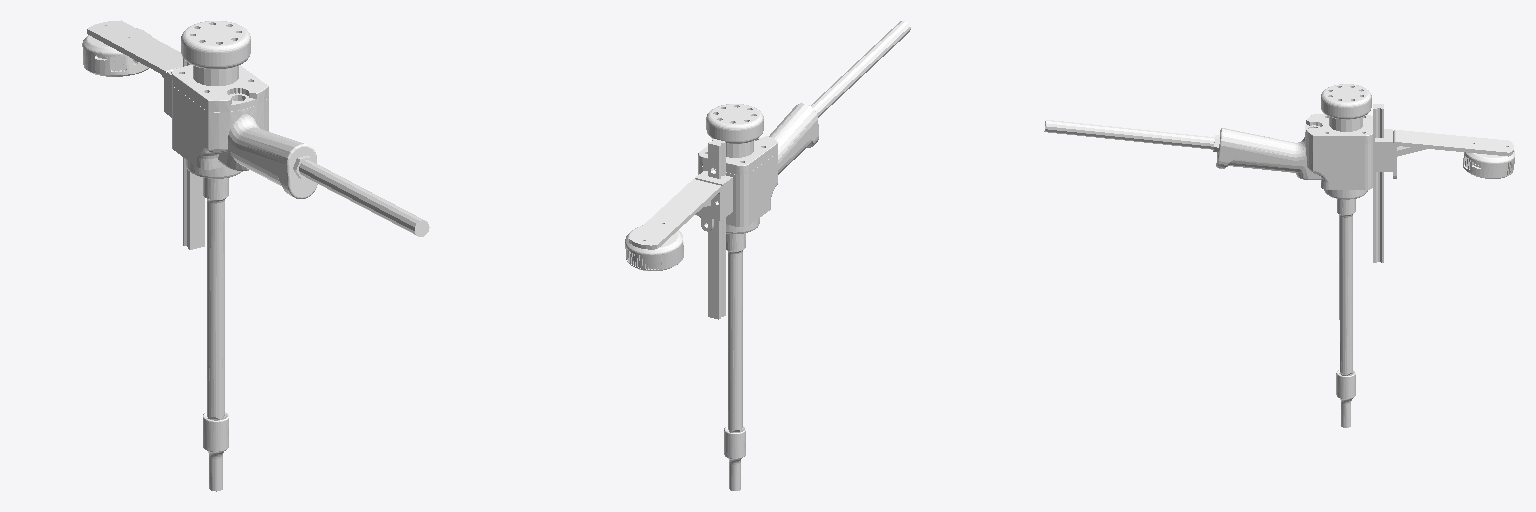
robot.urdf — socket_describe:
<?xml version="1.0" encoding="utf-8"?>
<!-- This URDF was automatically created by SolidWorks to URDF Exporter! Originally created by [author] ([email redacted]) 
     Commit Version: 1.5.1-0-g916b5db  Build Version: 1.5.7152.31018
     For more information, please see http://wiki.ros.org/sw_urdf_exporter -->
<robot name="socket_describe">
  <link name="pneumatic_base_link">
    <inertial>
      <origin xyz="2.3901E-06 -0.031661 -0.082455" rpy="0 0 0" />
      <mass value="0.63254" />
      <inertia ixx="0.0016249" ixy="-2.4777E-08" ixz="-8.1418E-08" iyy="0.00061245" iyz="4.3555E-05" izz="0.0012505" />
    </inertial>
    <visual>
      <origin xyz="0 0 0" rpy="0 0 0" />
      <geometry>
        <mesh filename="package://socket_describe/meshes/pneumatic_base_link.STL" />
      </geometry>
      <material name="">
        <color rgba="1 1 1 1" />
      </material>
    </visual>
    <collision>
      <origin xyz="0 0 0" rpy="0 0 0" />
      <geometry>
        <mesh filename="package://socket_describe/meshes/pneumatic_base_link.STL" />
      </geometry>
    </collision>
  </link>
  <link name="sleeve_Link">
    <inertial>
      <origin xyz="-6.2102E-10 2.2153E-09 -0.27064" rpy="0 0 0" />
      <mass value="0.059247" />
      <inertia ixx="0.00026061" ixy="-2.3096E-13" ixz="-1.6484E-12" iyy="0.00026061" iyz="1.0567E-11" izz="2.6182E-06" />
    </inertial>
    <visual>
      <origin xyz="0 0 0" rpy="0 0 0" />
      <geometry>
        <mesh filename="package://socket_describe/meshes/sleeve_Link.STL" />
      </geometry>
      <material name="">
        <color rgba="1 1 1 1" />
      </material>
    </visual>
    <collision>
      <origin xyz="0 0 0" rpy="0 0 0" />
      <geometry>
        <mesh filename="package://socket_describe/meshes/sleeve_Link.STL" />
      </geometry>
    </collision>
  </link>
  <joint name="sleeve_joint" type="continuous">
    <origin xyz="0 0 0" rpy="0 0 0" />
    <parent link="pneumatic_base_link" />
    <child link="sleeve_Link" />
    <axis xyz="0 0 -1" />
  </joint>
  <link name="camera_Link">
    <inertial>
      <origin xyz="-0.0040157 2.614E-05 -0.075782" rpy="0 0 0" />
      <mass value="0.12805" />
      <inertia ixx="0.00010423" ixy="-4.9755E-10" ixz="6.6151E-07" iyy="9.2528E-05" iyz="-4.8206E-08" izz="3.1847E-05" />
    </inertial>
    <visual>
      <origin xyz="0 0 0" rpy="0 0 0" />
      <geometry>
        <mesh filename="package://socket_describe/meshes/camera_Link.STL" />
      </geometry>
      <material name="">
        <color rgba="1 1 1 1" />
      </material>
    </visual>
    <collision>
      <origin xyz="0 0 0" rpy="0 0 0" />
      <geometry>
        <mesh filename="package://socket_describe/meshes/camera_Link.STL" />
      </geometry>
    </collision>
  </link>
  <joint name="camera_joint" type="prismatic">
    <origin xyz="0 0.055 -0.07478" rpy="1.5708 -1.5708 0" />
    <parent link="pneumatic_base_link" />
    <child link="camera_Link" />
    <axis xyz="1 0 0" />
    <limit lower="0" upper="0" effort="0" velocity="0" />
  </joint>
</robot>

--- Render facts (derived) ---
3 views of the same robot in one strip: view 1: azimuth 30°, elevation 25°; view 2: azimuth 150°, elevation 25°; view 3: azimuth 270°, elevation 25° (orthographic).
Robot: socket_describe — 3 links, 2 joints (1 continuous, 1 prismatic); root link pneumatic_base_link; default pose: all joints at 0.
Visible links, largest first — view 1: pneumatic_base_link, sleeve_Link, camera_Link; view 2: pneumatic_base_link, camera_Link, sleeve_Link; view 3: pneumatic_base_link, camera_Link, sleeve_Link.
Boxes of the visible links, x1,y1,x2,y2 form: pneumatic_base_link: (171,21,429,249); sleeve_Link: (203,178,228,491); camera_Link: (82,20,182,117); pneumatic_base_link: (698,21,910,319); camera_Link: (625,171,732,270); sleeve_Link: (724,233,745,490); pneumatic_base_link: (1044,84,1383,262); camera_Link: (1375,129,1514,178); sleeve_Link: (1336,199,1355,427).
Size in the robot's own frame: 0.061 by 0.5541 by 0.4317 metres.
Meshes: 3 distinct files referenced, 3 mesh visuals loaded (3 binary STL).